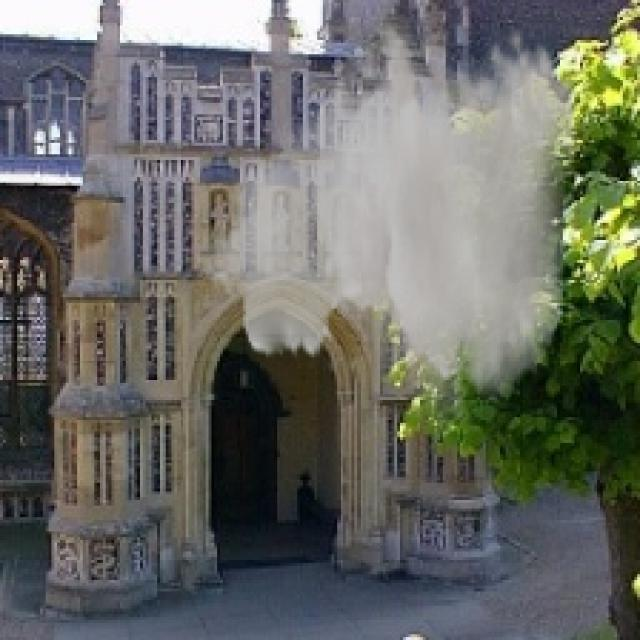smoke: (194, 23, 577, 448)
